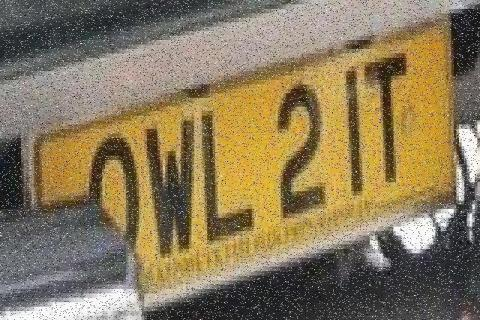LicensePlate: (35, 48, 437, 284)
